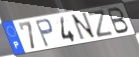4: (59, 15, 76, 43)
7: (17, 20, 37, 51)
B: (106, 6, 130, 35)
N: (70, 11, 98, 42)
P: (34, 17, 55, 48)
Z: (86, 8, 115, 39)
